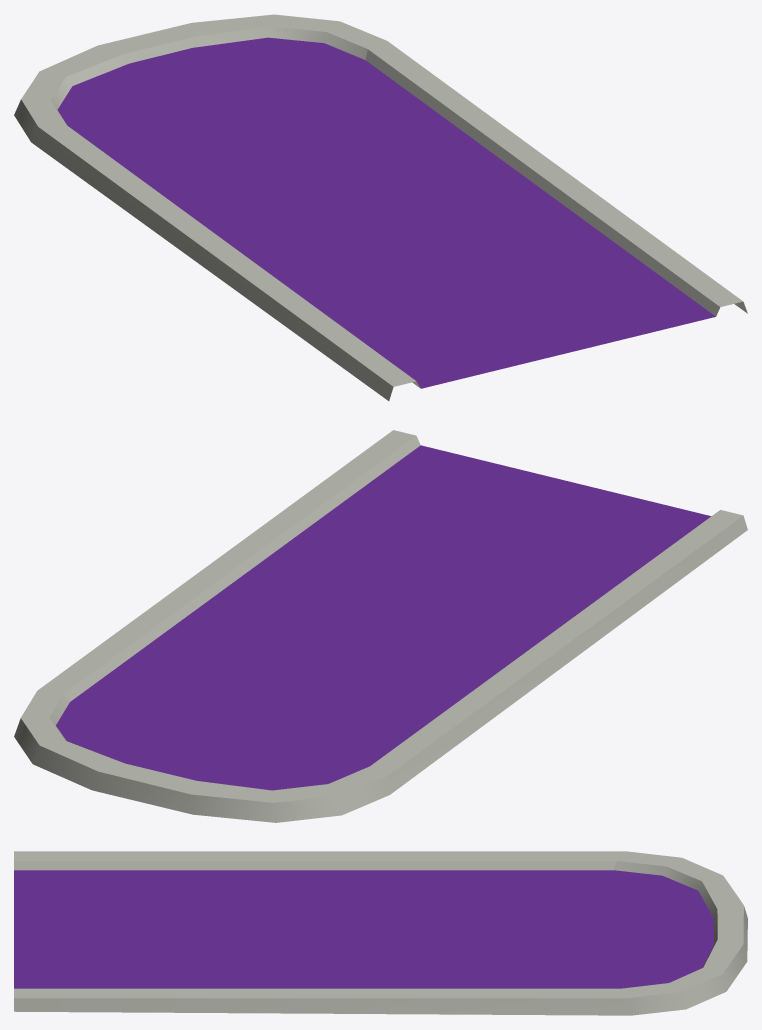
File: ParkRoad_6_A.fbx
3 views of the same model, one above another, from view 1: azimuth 30°, elevation 25°; view 2: azimuth 150°, elevation 25°; view 3: azimuth 270°, elevation 25° (orthographic). The views are drawn at different scales.
Parts seen in each view (by area): view 1: ParkRoad_6_A; view 2: ParkRoad_6_A; view 3: ParkRoad_6_A.
Boxes of the visible parts, x1,y1,x2,y2 form: ParkRoad_6_A: (14,14,747,400); ParkRoad_6_A: (14,430,747,822); ParkRoad_6_A: (14,851,747,1015).
Bounding box in the file's own units: 200 × 9.78 × 411.
